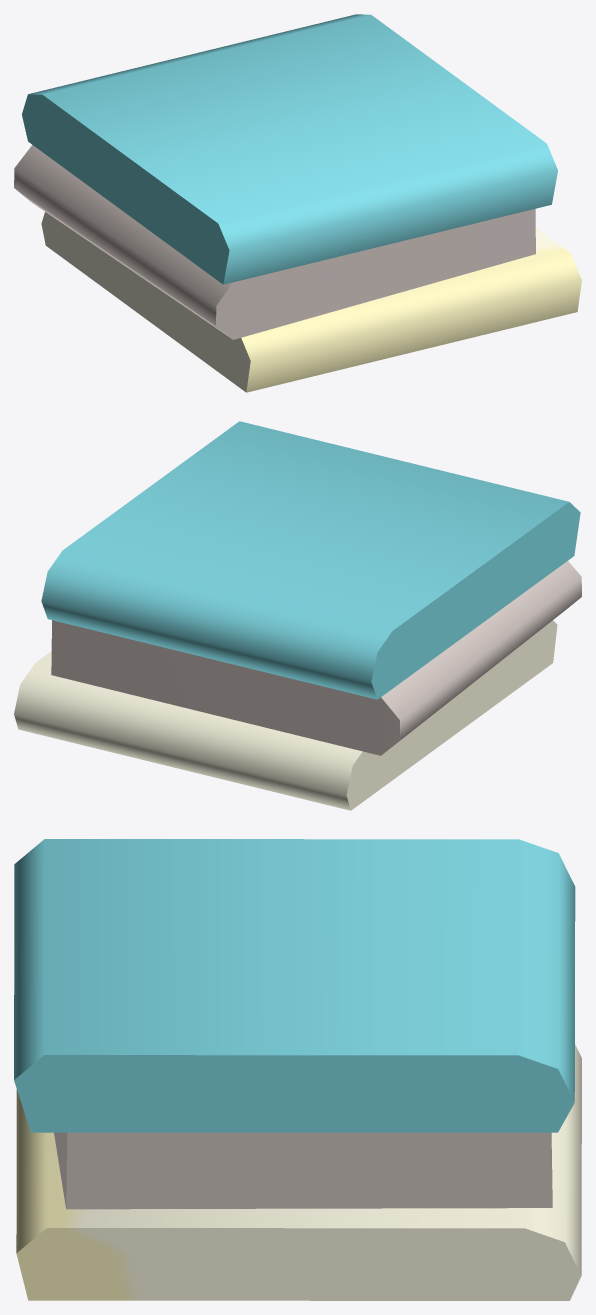
File: shop_044.fbx
The picture shows the model from 3 angles, top to bottom: view 1: azimuth 30°, elevation 25°; view 2: azimuth 150°, elevation 25°; view 3: azimuth 270°, elevation 25°; orthographic projection. The views are drawn at different scales.
Parts seen in each view (by area): view 1: shop_044; view 2: shop_044; view 3: shop_044.
Part boxes in pixels (x1,y1,x2,y2): shop_044: (14,14,581,392); shop_044: (14,421,581,810); shop_044: (14,839,581,1300).
Bounding box in the file's own units: 41.02 × 40.31 × 17.96.
